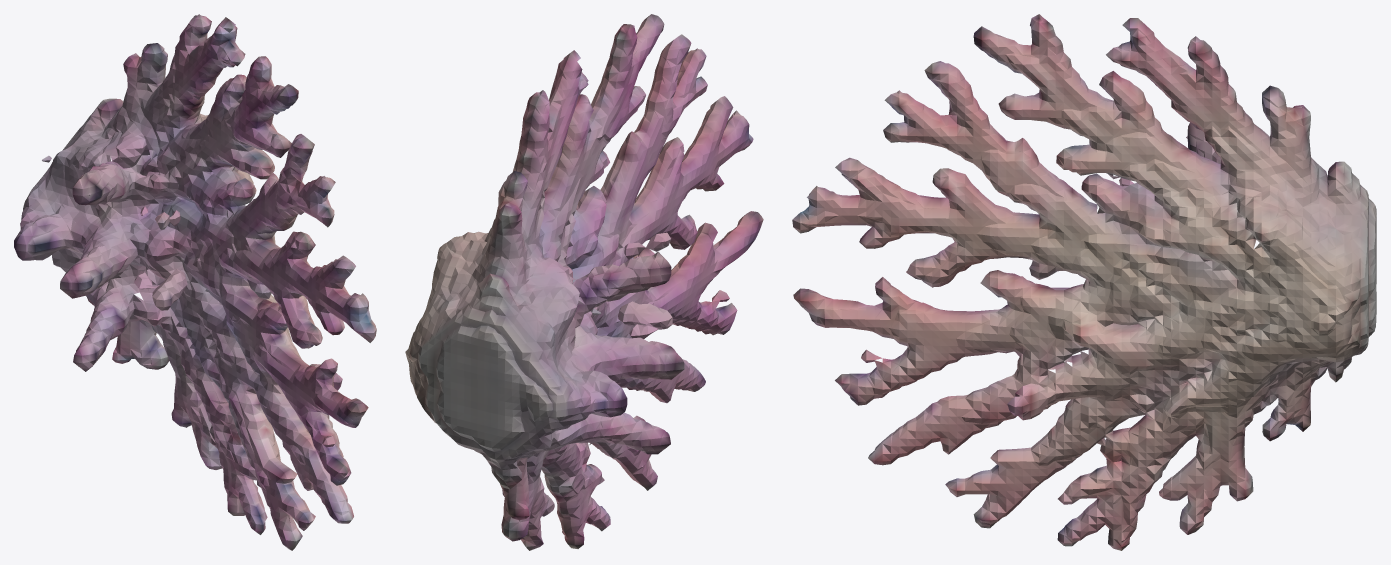
File: coral-staghorn-triposr-01.glb
3 views of the same model, side by side, from view 1: azimuth 30°, elevation 25°; view 2: azimuth 150°, elevation 25°; view 3: azimuth 270°, elevation 25° (orthographic). The views are drawn at different scales.
Visible parts, largest first — view 1: world; view 2: world; view 3: world.
Boxes of the visible parts, x1,y1,x2,y2 form: world: [14, 14, 376, 550]; world: [405, 14, 763, 550]; world: [792, 14, 1376, 550].
Bounding box in the file's own units: 0.4321 × 0.9713 × 0.9718.
